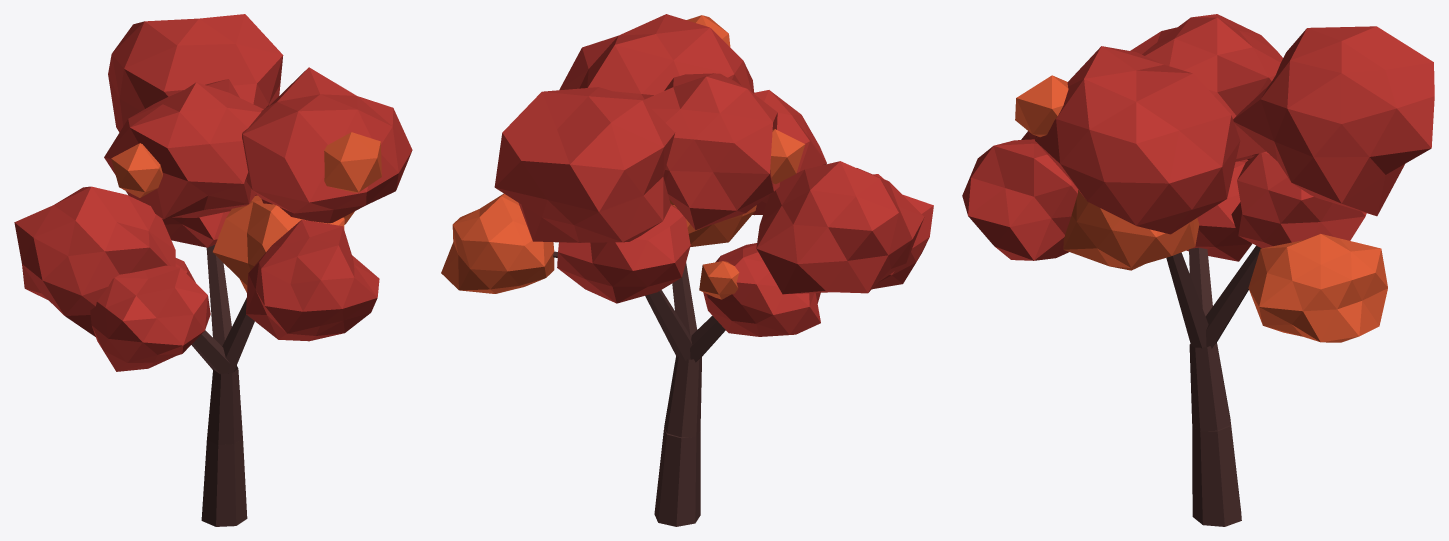
Rendered from tree_maple_3.glb.
3 renders of one model, left to right at view 1: azimuth 30°, elevation 25°; view 2: azimuth 150°, elevation 25°; view 3: azimuth 270°, elevation 25°, orthographic. The views are drawn at different scales.
Visible parts, largest first — view 1: tree_maple_3; view 2: tree_maple_3; view 3: tree_maple_3.
Part boxes in pixels (left/top/right/bottom): tree_maple_3: left=14, top=14, right=412, bottom=526; tree_maple_3: left=441, top=14, right=933, bottom=526; tree_maple_3: left=962, top=14, right=1434, bottom=526.
Size of the model in its own units: 5.5 by 6.2 by 5.39.
